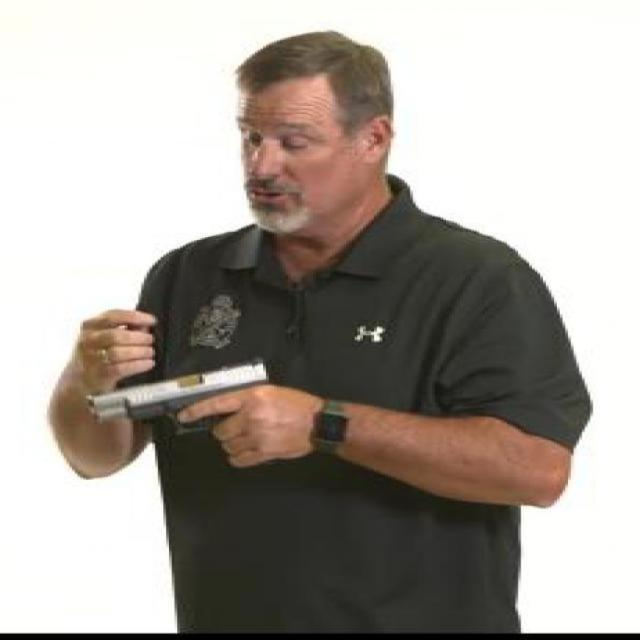pistol: (83, 359, 294, 467)
